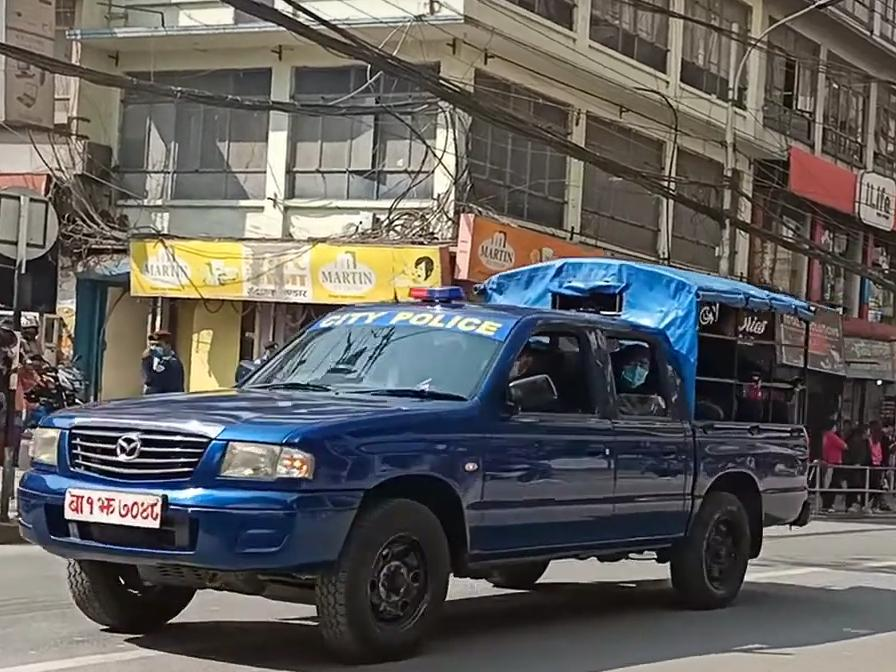police_vehicle: (8, 235, 821, 666)
